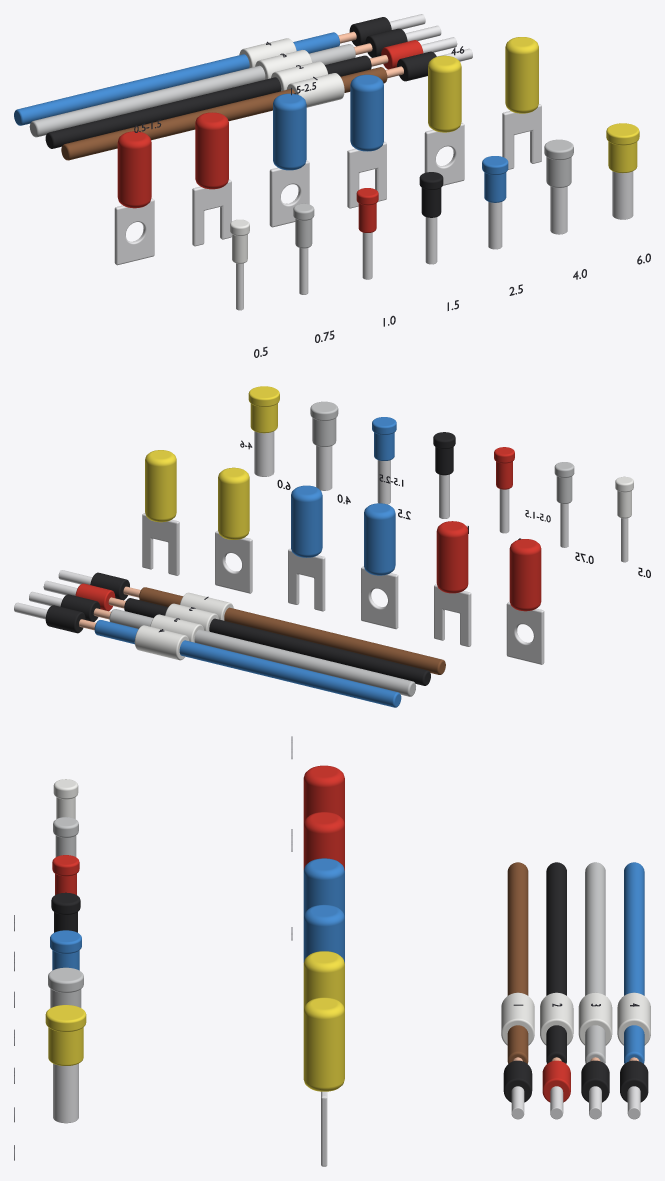
The model's file is ferrules_lugs.glb.
3 views of the same model, one above another, from view 1: azimuth 30°, elevation 25°; view 2: azimuth 150°, elevation 25°; view 3: azimuth 270°, elevation 25° (orthographic). The views are drawn at different scales.
Parts seen in each view (by area): view 1: lugs, wires, ferrules; view 2: lugs, wires, ferrules; view 3: wires, lugs, ferrules.
Boxes of the visible parts, bbox=[...] form: lugs: bbox=[114, 37, 541, 265]; wires: bbox=[14, 14, 472, 160]; ferrules: bbox=[230, 123, 650, 357]; lugs: bbox=[142, 440, 550, 664]; wires: bbox=[14, 570, 445, 707]; ferrules: bbox=[248, 386, 650, 577]; wires: bbox=[501, 862, 650, 1119]; lugs: bbox=[291, 736, 344, 1166]; ferrules: bbox=[14, 779, 86, 1160].
Bounding box in the file's own units: 0.0952 × 0.0317 × 0.0986.
